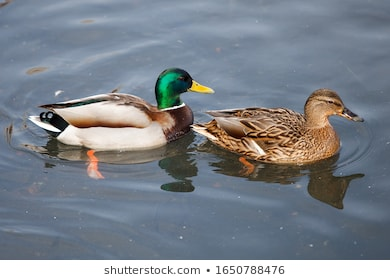duck: (19, 54, 221, 179), (202, 76, 377, 183)
